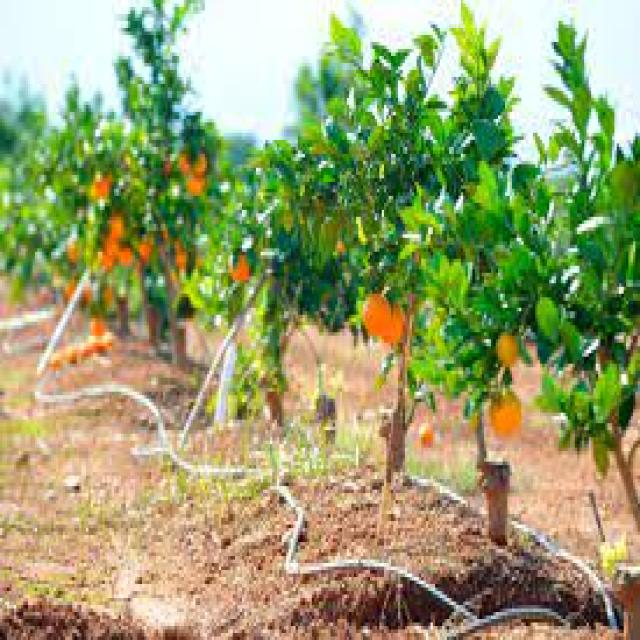orange: (351, 275, 409, 352)
